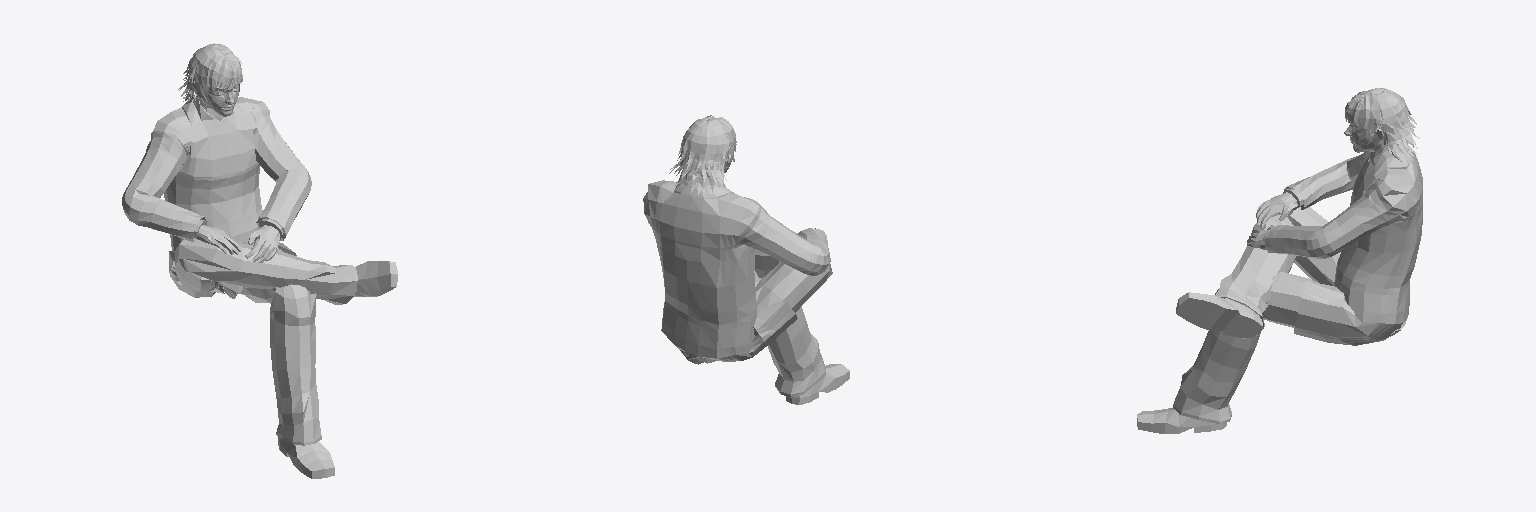
Rendered from sitMaleLivingRoom.obj.
3 renders of one model, left to right at view 1: azimuth 30°, elevation 25°; view 2: azimuth 150°, elevation 25°; view 3: azimuth 270°, elevation 25°, orthographic.
Visible parts, largest first — view 1: body; view 2: body; view 3: body.
Part boxes in pixels (x1,y1,x2,y2): body: (122, 43, 398, 478); body: (643, 115, 849, 404); body: (1137, 88, 1422, 433).
Bounding box in the file's own units: 76.63 × 132 × 101.